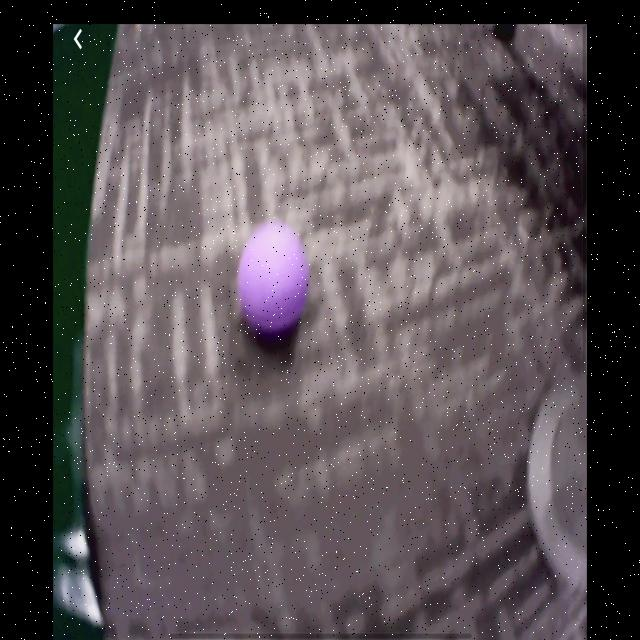ball: (239, 226, 311, 337)
